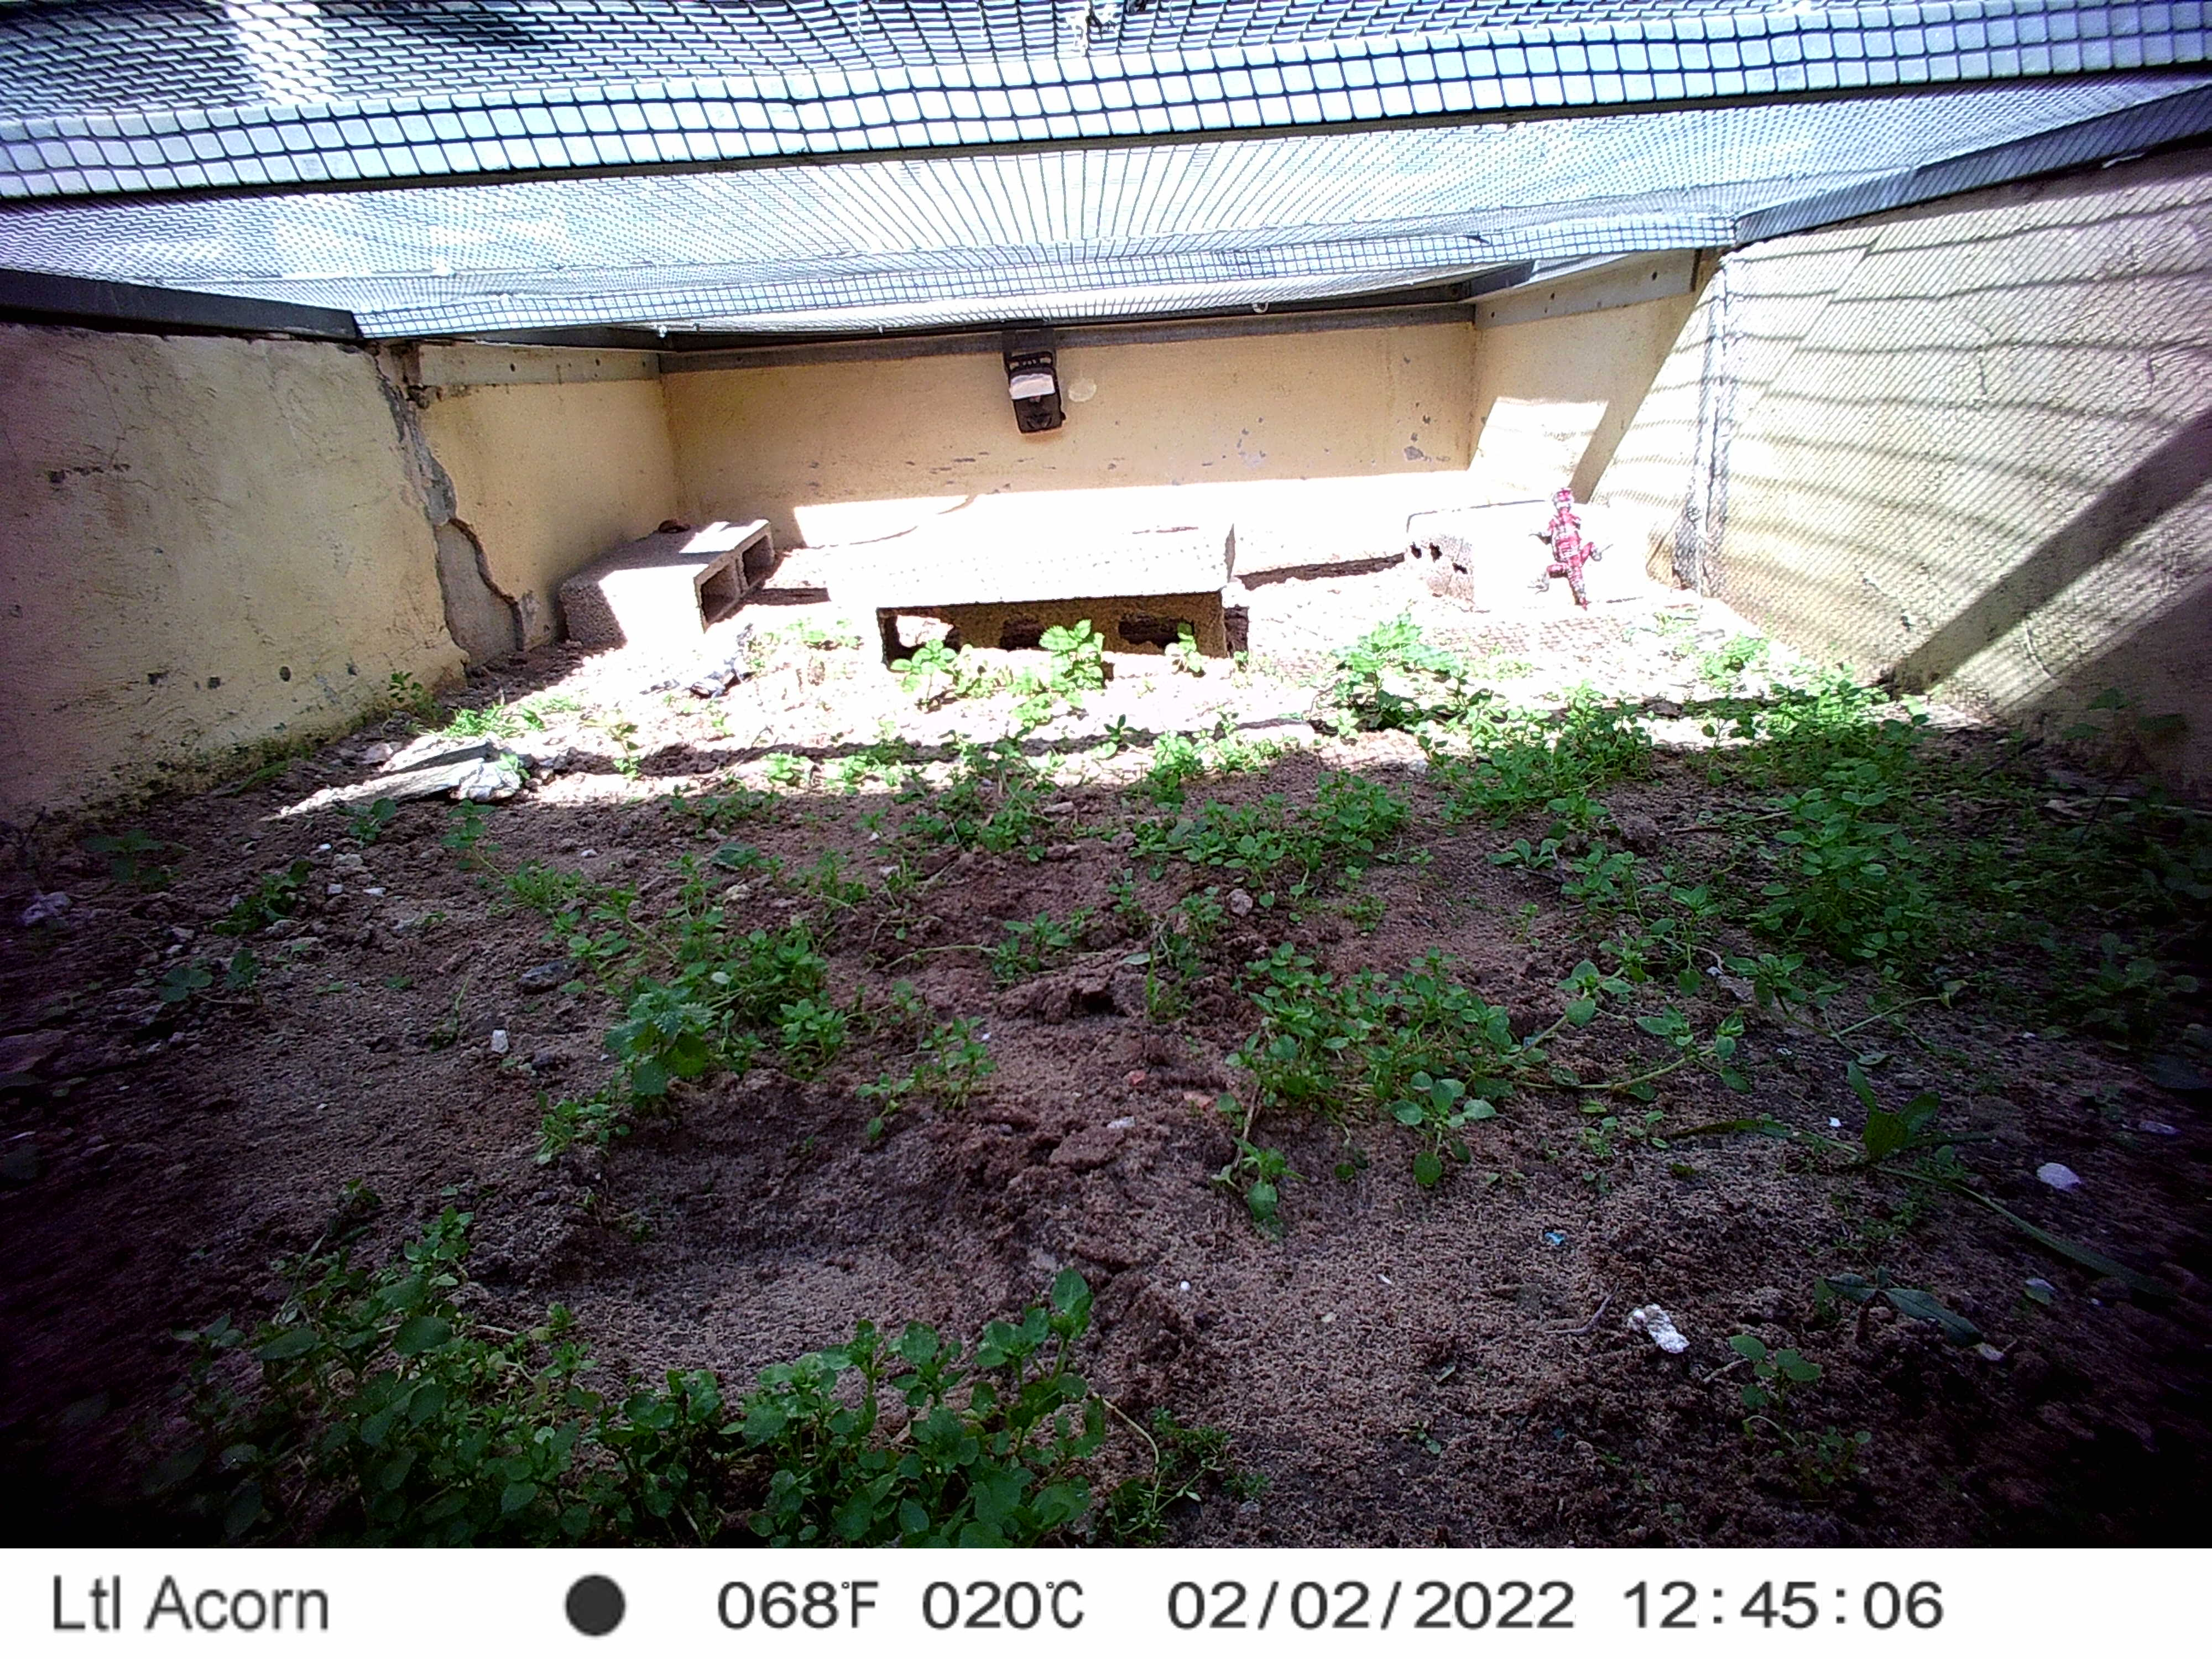lizard: (617, 615, 768, 709), (1529, 483, 1615, 615)
